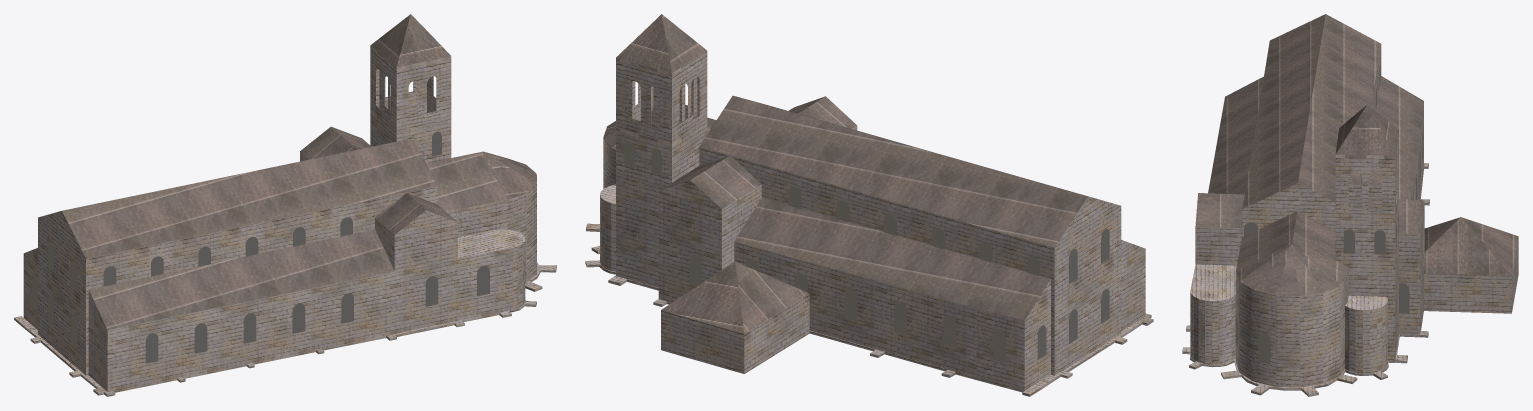
File: saint-pierre-de-montmartre.glb
The picture shows the model from 3 angles, left to right: view 1: azimuth 30°, elevation 25°; view 2: azimuth 150°, elevation 25°; view 3: azimuth 270°, elevation 25°; orthographic projection. The views are drawn at different scales.
Visible parts, largest first — view 1: stone, roof, window, trim; view 2: stone, roof, window, trim; view 3: roof, stone, window, trim.
Part boxes in pixels (bbox=[...]): stone: bbox=[14, 49, 556, 396]; roof: bbox=[62, 14, 536, 329]; window: bbox=[32, 131, 489, 363]; trim: bbox=[370, 45, 451, 134]; stone: bbox=[585, 51, 1153, 396]; roof: bbox=[603, 14, 1108, 333]; window: bbox=[624, 141, 1109, 362]; trim: bbox=[616, 57, 685, 146]; roof: bbox=[1195, 14, 1518, 295]; stone: bbox=[1182, 45, 1518, 396]; window: bbox=[1199, 65, 1423, 364]; trim: bbox=[1335, 131, 1398, 224].
Size of the model in its own units: 54.58 by 26 by 32.49.
Materials: 4 (4 with a texture image).
